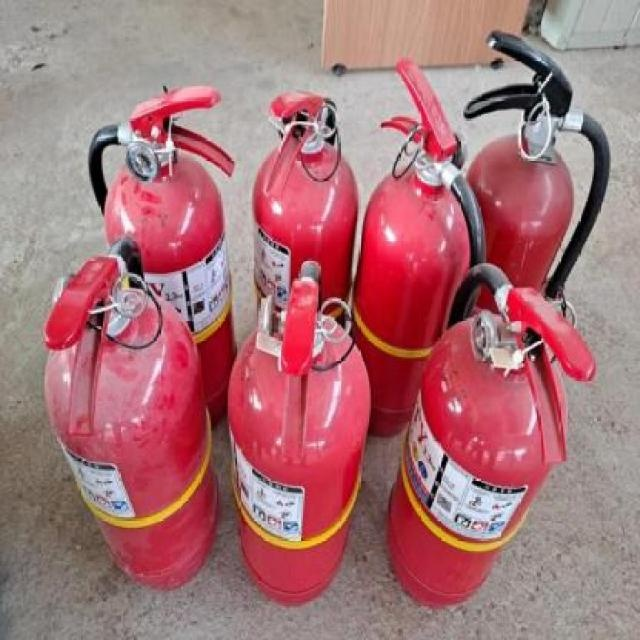fire extinguisher: (385, 262, 597, 607), (43, 235, 222, 589), (88, 84, 237, 428), (350, 58, 485, 436), (227, 260, 371, 608), (464, 29, 611, 320), (252, 88, 360, 332)
